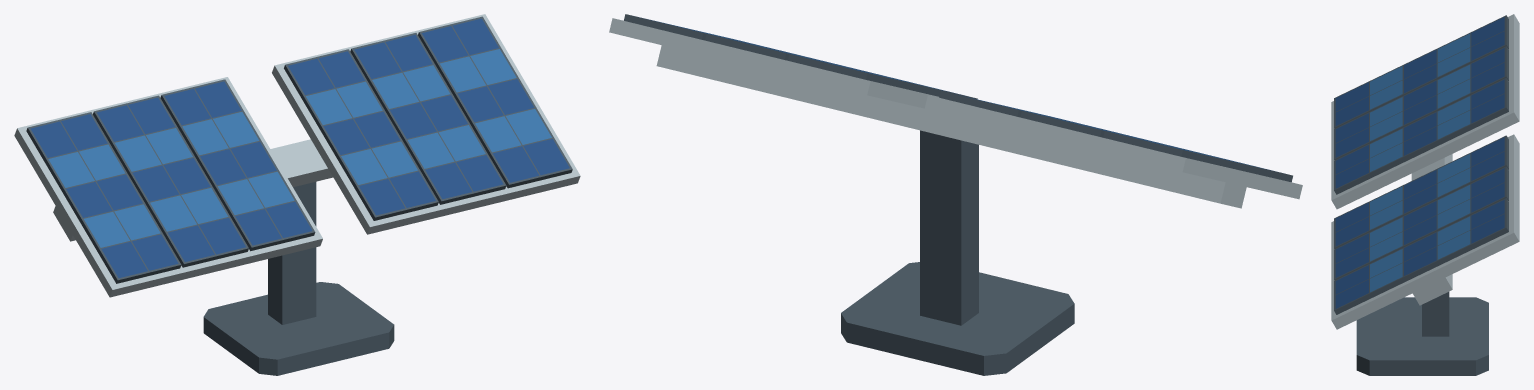
The picture shows the model from 3 angles, left to right: view 1: azimuth 30°, elevation 25°; view 2: azimuth 150°, elevation 25°; view 3: azimuth 270°, elevation 25°; orthographic projection. The views are drawn at different scales.
Visible parts, largest first — view 1: LeftThickSolarPanel_2, RightThickSolarPanel_2, RightThickSolarPanel_1, LeftThickSolarPanel_3, RightThickSolarPanel_3, LeftThickSolarPanel_1, ChamferedWholeGroundBase, LeftThreeBayContinuousFrame, RightThreeBayContinuousFrame, WholeCentralMast, WholeTransverseBackSpar; view 2: ChamferedWholeGroundBase, WholeTransverseBackSpar, WholeCentralMast, LeftThreeBayContinuousFrame, RightThreeBayContinuousFrame, LeftThickSolarPanel_3, RightThickSolarPanel_1, LeftThickSolarPanel_2, RightThickSolarPanel_2, RightThickSolarPanel_3, LeftThickSolarPanel_1; view 3: ChamferedWholeGroundBase, LeftThickSolarPanel_1, RightThickSolarPanel_3, RightThickSolarPanel_2, LeftThickSolarPanel_2, RightThickSolarPanel_1, LeftThickSolarPanel_3, LeftThreeBayContinuousFrame, RightThreeBayContinuousFrame, WholeCentralMast, WholeTransverseBackSpar.
Boxes of the visible parts, x1,y1,x2,y2 form: LeftThickSolarPanel_2: (93, 95, 248, 267); RightThickSolarPanel_2: (350, 33, 506, 204); RightThickSolarPanel_1: (284, 49, 438, 220); LeftThickSolarPanel_3: (26, 112, 181, 283); RightThickSolarPanel_3: (418, 16, 572, 188); LeftThickSolarPanel_1: (160, 79, 315, 251); ChamferedWholeGroundBase: (203, 282, 394, 375); LeftThreeBayContinuousFrame: (14, 77, 322, 297); RightThreeBayContinuousFrame: (272, 14, 580, 234); WholeCentralMast: (268, 182, 316, 324); WholeTransverseBackSpar: (53, 139, 333, 241); ChamferedWholeGroundBase: (841, 262, 1074, 375); WholeTransverseBackSpar: (656, 45, 1246, 208); WholeCentralMast: (920, 130, 978, 325); LeftThreeBayContinuousFrame: (924, 95, 1302, 199); RightThreeBayContinuousFrame: (609, 18, 939, 108); LeftThickSolarPanel_3: (1103, 131, 1292, 182); RightThickSolarPanel_1: (788, 54, 977, 99); LeftThickSolarPanel_2: (1020, 111, 1203, 153); RightThickSolarPanel_2: (705, 34, 892, 77); RightThickSolarPanel_3: (624, 14, 804, 56); LeftThickSolarPanel_1: (939, 91, 1121, 133); ChamferedWholeGroundBase: (1356, 297, 1488, 375); LeftThickSolarPanel_1: (1334, 77, 1508, 194); RightThickSolarPanel_3: (1334, 198, 1508, 314); RightThickSolarPanel_2: (1334, 166, 1508, 280); LeftThickSolarPanel_2: (1334, 46, 1508, 160); RightThickSolarPanel_1: (1334, 135, 1508, 248); LeftThickSolarPanel_3: (1334, 15, 1508, 128); LeftThreeBayContinuousFrame: (1331, 14, 1519, 209); RightThreeBayContinuousFrame: (1331, 134, 1519, 329); WholeCentralMast: (1422, 292, 1449, 336); WholeTransverseBackSpar: (1411, 154, 1452, 305).
Size of the model in its own units: 3.6 by 1.71 by 1.31.
